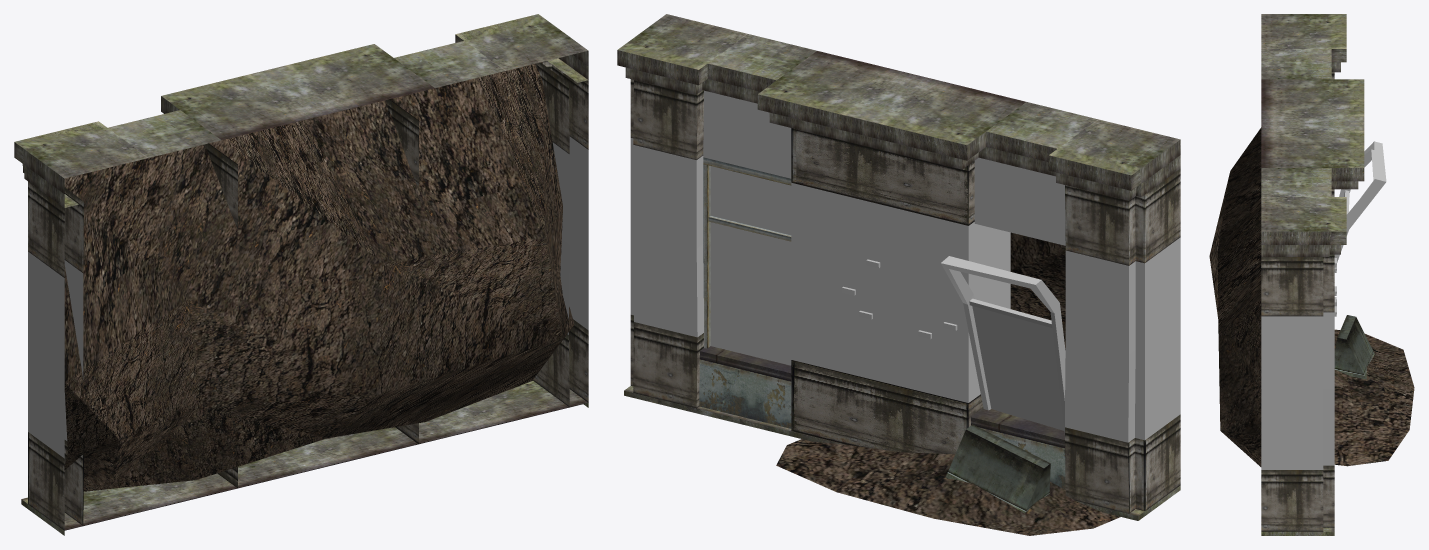
The model's file is Store_front_46.fbx.
3 views of the same model, side by side, from view 1: azimuth 30°, elevation 25°; view 2: azimuth 150°, elevation 25°; view 3: azimuth 270°, elevation 25° (orthographic). The views are drawn at different scales.
Parts seen in each view (by area): view 1: Store_front_46; view 2: Store_front_46; view 3: Store_front_46.
Boxes of the visible parts, <box> form: Store_front_46: <box>14,14,588,535</box>; Store_front_46: <box>617,14,1180,535</box>; Store_front_46: <box>1209,14,1414,535</box>.
Size of the model in its own units: 700 by 460 by 279.
